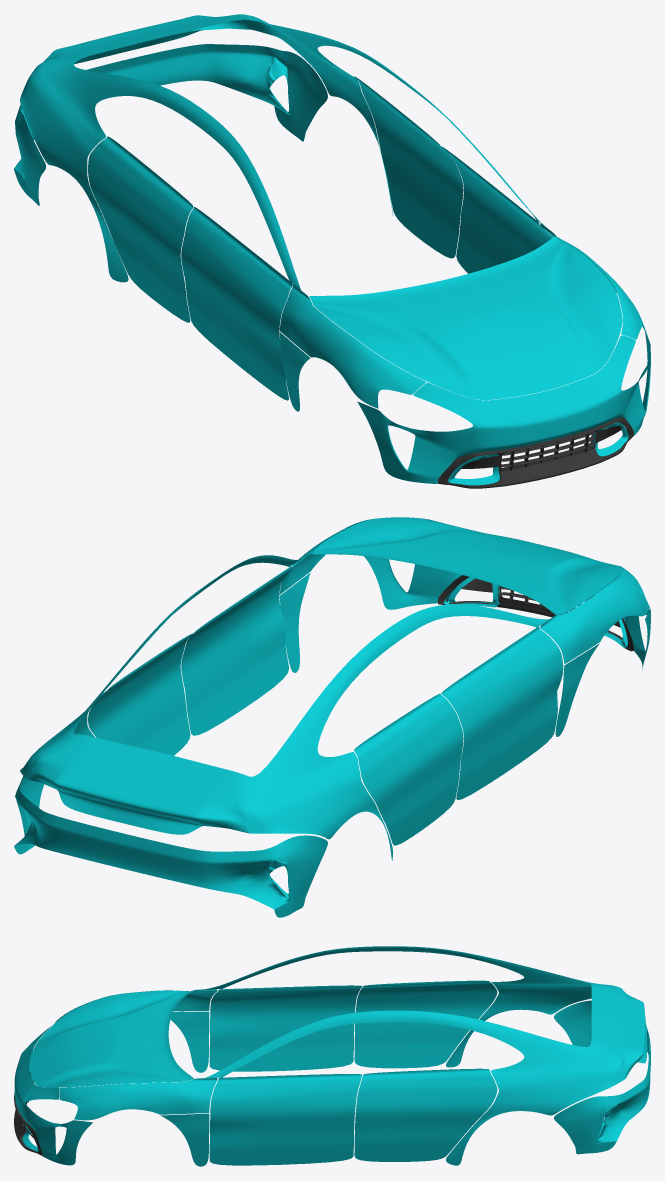
The picture shows the model from 3 angles, top to bottom: view 1: azimuth 30°, elevation 25°; view 2: azimuth 150°, elevation 25°; view 3: azimuth 270°, elevation 25°; orthographic projection. The views are drawn at different scales.
Visible parts, largest first — view 1: Plane, Plane.002, Plane.003, Plane.004; view 2: Plane, Plane.002, Plane.003; view 3: Plane, Plane.002.
Part boxes in pixels (<box>): Plane: <box>14,14,650,483</box>; Plane.002: <box>437,417,633,488</box>; Plane.003: <box>447,422,628,485</box>; Plane.004: <box>501,431,596,467</box>; Plane: <box>14,517,650,917</box>; Plane.002: <box>437,575,633,651</box>; Plane.003: <box>443,577,627,648</box>; Plane: <box>14,946,650,1166</box>; Plane.002: <box>14,1072,42,1155</box>.
Bounding box in the file's own units: 1.91 × 1.25 × 4.97.
